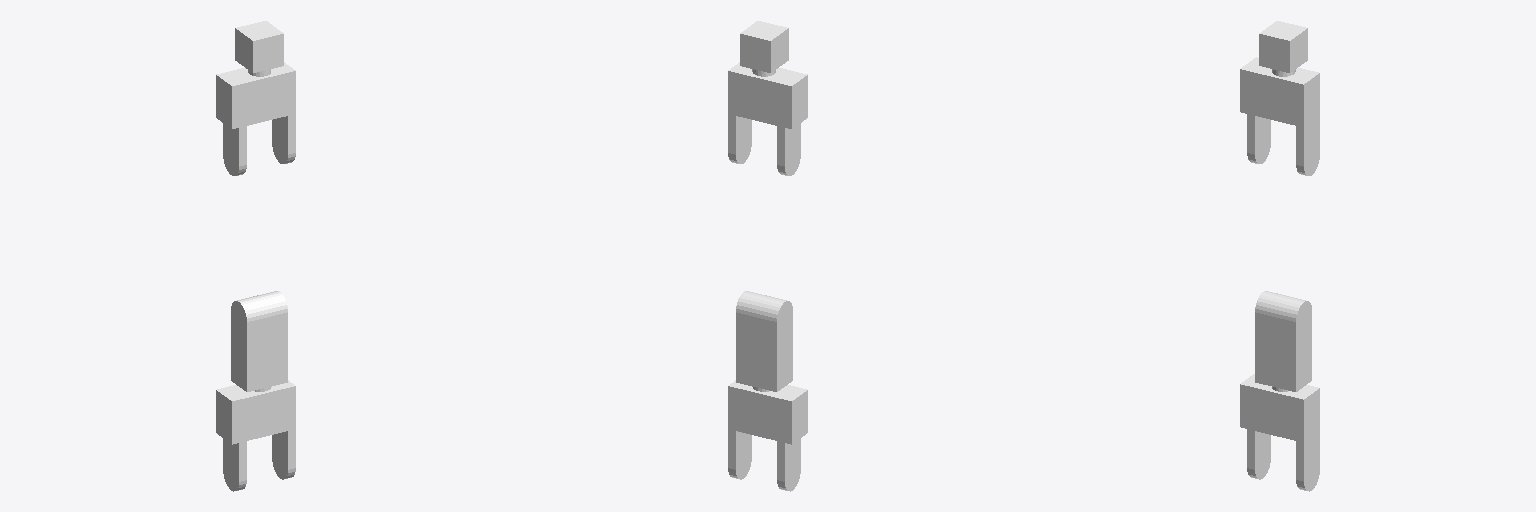
robot.urdf — leader_3215_description:
<?xml version="1.0" encoding="utf-8"?>
<!-- This URDF was automatically created by SolidWorks to URDF Exporter! Originally created by Stephen Brawner (brawner@gmail.com) 
     Commit Version: 1.6.0-4-g7f85cfe  Build Version: 1.6.7995.38578
     For more information, please see http://wiki.ros.org/sw_urdf_exporter -->
<robot
  name="leader_3215_description">
  <link
    name="base_link">
    <inertial>
      <origin
        xyz="-0.00159521171763351 2.29923966853244E-18 0.0052310891421384"
        rpy="0 0 0" />
      <mass
        value="0.167902477796077" />
      <inertia
        ixx="9.76163689204882E-05"
        ixy="3.03295833065713E-21"
        ixz="-7.99280838274572E-08"
        iyy="0.000115012939261665"
        iyz="9.457462825435E-21"
        izz="0.000192246000897648" />
    </inertial>
    <visual>
      <origin
        xyz="0 0 0"
        rpy="0 0 0" />
      <geometry>
        <mesh
          filename="package://leader_3215_description/meshes/base_link.STL" />
      </geometry>
      <material
        name="">
        <color
          rgba="1 1 1 1" />
      </material>
    </visual>
    <collision>
      <origin
        xyz="0 0 0"
        rpy="0 0 0" />
      <geometry>
        <mesh
          filename="package://leader_3215_description/meshes/base_link.STL" />
      </geometry>
    </collision>
  </link>
  <link
    name="link1">
    <inertial>
      <origin
        xyz="2.3916E-17 3.7482E-18 0.039565"
        rpy="0 0 0" />
      <mass
        value="0.082279" />
      <inertia
        ixx="4.4995E-05"
        ixy="-8.06E-22"
        ixz="-3.2611E-21"
        iyy="5.1095E-05"
        iyz="-4.7177E-21"
        izz="1.5705E-05" />
    </inertial>
    <visual>
      <origin
        xyz="0 0 0"
        rpy="0 0 0" />
      <geometry>
        <mesh
          filename="package://leader_3215_description/meshes/link1.STL" />
      </geometry>
      <material
        name="">
        <color
          rgba="1 1 1 1" />
      </material>
    </visual>
    <collision>
      <origin
        xyz="0 0 0"
        rpy="0 0 0" />
      <geometry>
        <mesh
          filename="package://leader_3215_description/meshes/link1.STL" />
      </geometry>
    </collision>
  </link>
  <joint
    name="joint1"
    type="revolute">
    <origin
      xyz="0 0 0.043"
      rpy="0 0 0" />
    <parent
      link="base_link" />
    <child
      link="link1" />
    <axis
      xyz="0 0 1" />
    <limit
      lower="-3.14"
      upper="3.14"
      effort="0"
      velocity="0" />
  </joint>
  <link
    name="link2">
    <inertial>
      <origin
        xyz="-0.022701 -8.7951E-18 0.046794"
        rpy="0 0 0" />
      <mass
        value="0.086777" />
      <inertia
        ixx="4.6229E-05"
        ixy="-1.0545E-21"
        ixz="2.1575E-06"
        iyy="7.3451E-05"
        iyz="-2.9576E-22"
        izz="3.7568E-05" />
    </inertial>
    <visual>
      <origin
        xyz="0 0 0"
        rpy="0 0 0" />
      <geometry>
        <mesh
          filename="package://leader_3215_description/meshes/link2.STL" />
      </geometry>
      <material
        name="">
        <color
          rgba="1 1 1 1" />
      </material>
    </visual>
    <collision>
      <origin
        xyz="0 0 0"
        rpy="0 0 0" />
      <geometry>
        <mesh
          filename="package://leader_3215_description/meshes/link2.STL" />
      </geometry>
    </collision>
  </link>
  <joint
    name="joint2"
    type="revolute">
    <origin
      xyz="0.02 0 0.067"
      rpy="0 0 0" />
    <parent
      link="link1" />
    <child
      link="link2" />
    <axis
      xyz="-1 0 0" />
    <limit
      lower="-3.14"
      upper="3.14"
      effort="0"
      velocity="0" />
  </joint>
  <link
    name="link3">
    <inertial>
      <origin
        xyz="1.57529238804371E-17 8.63633502405381E-18 0.0395647200714184"
        rpy="0 0 0" />
      <mass
        value="0.0822794237530527" />
      <inertia
        ixx="4.49947281899052E-05"
        ixy="-1.28332076361426E-21"
        ixz="-3.58941574618153E-21"
        iyy="5.10951512378572E-05"
        iyz="-9.2668223543666E-22"
        izz="1.57046209378732E-05" />
    </inertial>
    <visual>
      <origin
        xyz="0 0 0"
        rpy="0 0 0" />
      <geometry>
        <mesh
          filename="package://leader_3215_description/meshes/link3.STL" />
      </geometry>
      <material
        name="">
        <color
          rgba="1 1 1 1" />
      </material>
    </visual>
    <collision>
      <origin
        xyz="0 0 0"
        rpy="0 0 0" />
      <geometry>
        <mesh
          filename="package://leader_3215_description/meshes/link3.STL" />
      </geometry>
    </collision>
  </link>
  <joint
    name="joint3"
    type="revolute">
    <origin
      xyz="-0.02 0 0.079"
      rpy="0 0 0" />
    <parent
      link="link2" />
    <child
      link="link3" />
    <axis
      xyz="0 0 1" />
    <limit
      lower="-3.14"
      upper="3.14"
      effort="0"
      velocity="0" />
  </joint>
  <link
    name="link4">
    <inertial>
      <origin
        xyz="-0.0227007267613881 -1.93878395395224E-17 0.0467941392257271"
        rpy="0 0 0" />
      <mass
        value="0.0867766422544524" />
      <inertia
        ixx="4.62289338201927E-05"
        ixy="-1.82687208984123E-21"
        ixz="2.15748553105859E-06"
        iyy="7.34512446639601E-05"
        iyz="1.0476836128437E-21"
        izz="3.75678504698407E-05" />
    </inertial>
    <visual>
      <origin
        xyz="0 0 0"
        rpy="0 0 0" />
      <geometry>
        <mesh
          filename="package://leader_3215_description/meshes/link4.STL" />
      </geometry>
      <material
        name="">
        <color
          rgba="1 1 1 1" />
      </material>
    </visual>
    <collision>
      <origin
        xyz="0 0 0"
        rpy="0 0 0" />
      <geometry>
        <mesh
          filename="package://leader_3215_description/meshes/link4.STL" />
      </geometry>
    </collision>
  </link>
  <joint
    name="joint4"
    type="revolute">
    <origin
      xyz="0.02 0 0.067"
      rpy="0 0 0" />
    <parent
      link="link3" />
    <child
      link="link4" />
    <axis
      xyz="-1 0 0" />
    <limit
      lower="-3.14"
      upper="3.14"
      effort="0"
      velocity="0" />
  </joint>
  <link
    name="link5">
    <inertial>
      <origin
        xyz="-1.23766484004277E-18 -5.10079754767734E-18 0.0395647200714185"
        rpy="0 0 0" />
      <mass
        value="0.0822794237530527" />
      <inertia
        ixx="4.49947281899051E-05"
        ixy="-1.13398189937987E-21"
        ixz="-3.50736109012887E-21"
        iyy="5.10951512378572E-05"
        iyz="3.36866701953339E-21"
        izz="1.57046209378732E-05" />
    </inertial>
    <visual>
      <origin
        xyz="0 0 0"
        rpy="0 0 0" />
      <geometry>
        <mesh
          filename="package://leader_3215_description/meshes/link5.STL" />
      </geometry>
      <material
        name="">
        <color
          rgba="1 1 1 1" />
      </material>
    </visual>
    <collision>
      <origin
        xyz="0 0 0"
        rpy="0 0 0" />
      <geometry>
        <mesh
          filename="package://leader_3215_description/meshes/link5.STL" />
      </geometry>
    </collision>
  </link>
  <joint
    name="joint5"
    type="revolute">
    <origin
      xyz="-0.02 0 0.079"
      rpy="0 0 0" />
    <parent
      link="link4" />
    <child
      link="link5" />
    <axis
      xyz="0 0 1" />
    <limit
      lower="-3.14"
      upper="3.14"
      effort="0"
      velocity="0" />
  </joint>
  <link
    name="link6">
    <inertial>
      <origin
        xyz="-0.0227007267613881 -9.74434113803547E-19 0.046794139225727"
        rpy="0 0 0" />
      <mass
        value="0.0867766422544524" />
      <inertia
        ixx="4.62289338201927E-05"
        ixy="-1.84847611121618E-21"
        ixz="2.15748553105859E-06"
        iyy="7.34512446639601E-05"
        iyz="1.07456460342684E-21"
        izz="3.75678504698407E-05" />
    </inertial>
    <visual>
      <origin
        xyz="0 0 0"
        rpy="0 0 0" />
      <geometry>
        <mesh
          filename="package://leader_3215_description/meshes/link6.STL" />
      </geometry>
      <material
        name="">
        <color
          rgba="1 1 1 1" />
      </material>
    </visual>
    <collision>
      <origin
        xyz="0 0 0"
        rpy="0 0 0" />
      <geometry>
        <mesh
          filename="package://leader_3215_description/meshes/link6.STL" />
      </geometry>
    </collision>
  </link>
  <joint
    name="joint6"
    type="revolute">
    <origin
      xyz="0.02 0 0.067"
      rpy="0 0 0" />
    <parent
      link="link5" />
    <child
      link="link6" />
    <axis
      xyz="-1 0 0" />
    <limit
      lower="-3.14"
      upper="3.14"
      effort="0"
      velocity="0" />
  </joint>
  <link
    name="link7">
    <inertial>
      <origin
        xyz="1.8501E-18 -7.0102E-19 0.019038"
        rpy="0 0 0" />
      <mass
        value="0.028571" />
      <inertia
        ixx="4.5472E-06"
        ixy="-1.0216E-22"
        ixz="-1.0299E-22"
        iyy="4.5472E-06"
        iyz="-6.8028E-22"
        izz="4.1285E-06" />
    </inertial>
    <visual>
      <origin
        xyz="0 0 0"
        rpy="0 0 0" />
      <geometry>
        <mesh
          filename="package://leader_3215_description/meshes/link7.STL" />
      </geometry>
      <material
        name="">
        <color
          rgba="1 1 1 1" />
      </material>
    </visual>
    <collision>
      <origin
        xyz="0 0 0"
        rpy="0 0 0" />
      <geometry>
        <mesh
          filename="package://leader_3215_description/meshes/link7.STL" />
      </geometry>
    </collision>
  </link>
  <joint
    name="joint7"
    type="revolute">
    <origin
      xyz="-0.02 0 0.079"
      rpy="0 0 0" />
    <parent
      link="link6" />
    <child
      link="link7" />
    <axis
      xyz="0 0 1" />
    <limit
      lower="-3.14"
      upper="3.14"
      effort="0"
      velocity="0" />
  </joint>
</robot>

--- Facts derived from the render (not from the file) ---
The picture shows the robot from 3 angles, left to right: view 1: azimuth 30°, elevation 25°; view 2: azimuth 150°, elevation 25°; view 3: azimuth 330°, elevation 25°; orthographic projection.
Robot: leader_3215_description — 8 links, 7 joints (7 revolute); root link base_link; default pose: all joints at 0.
Visible links, largest first — view 1: link6, link2, link3, link7; view 2: link6, link2, link3, link7; view 3: link6, link2, link3, link7.
Link boxes in pixels (x1,y1,x2,y2): link6: [216, 62, 295, 175]; link2: [216, 380, 295, 491]; link3: [231, 291, 287, 391]; link7: [235, 21, 283, 73]; link6: [728, 62, 807, 175]; link2: [728, 380, 807, 491]; link3: [736, 291, 792, 391]; link7: [740, 21, 788, 73]; link6: [1240, 57, 1319, 175]; link2: [1240, 374, 1319, 491]; link3: [1255, 291, 1311, 391]; link7: [1259, 21, 1307, 73].
Size in the robot's own frame: 0.062 by 0.03 by 0.4195 metres.
Meshes: 8 distinct files referenced, 4 mesh visuals loaded (4 binary STL); not drawn: 4 (reference not matched to a file when rendering).
